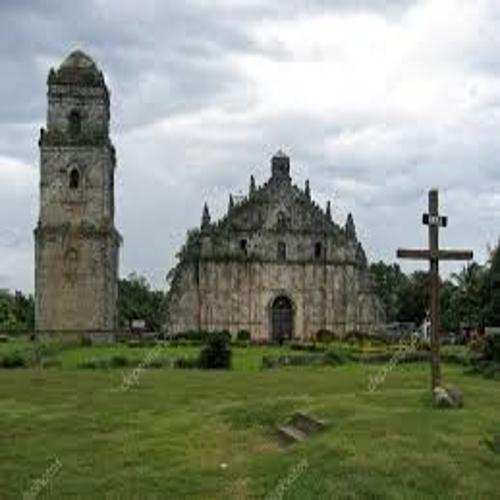Paoay Church: (27, 41, 399, 355)
